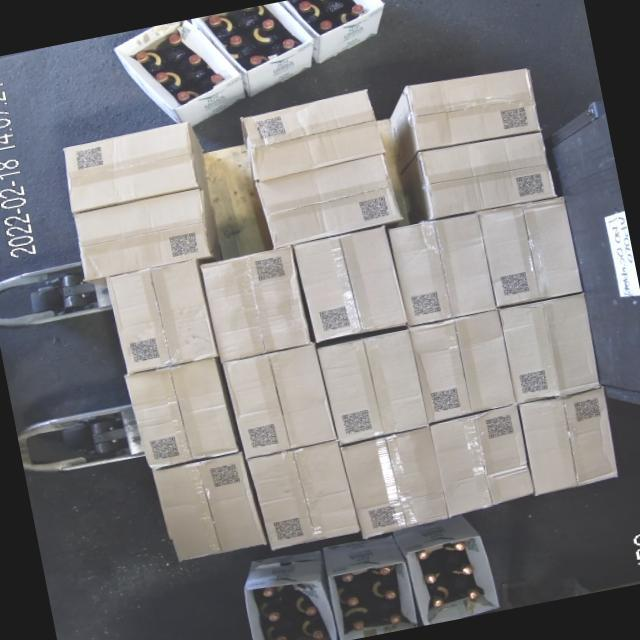box: (255, 156, 400, 252), (240, 90, 381, 186), (290, 229, 403, 344), (197, 246, 307, 364), (315, 329, 425, 447), (405, 310, 515, 426), (123, 358, 234, 472), (386, 212, 494, 329), (71, 191, 208, 282), (223, 345, 332, 459), (105, 262, 215, 374), (59, 124, 195, 213), (153, 455, 263, 565), (339, 429, 444, 543), (419, 131, 552, 221), (248, 444, 356, 552), (426, 407, 532, 516), (406, 67, 538, 153), (477, 198, 578, 310), (498, 294, 598, 406), (514, 389, 618, 496)
